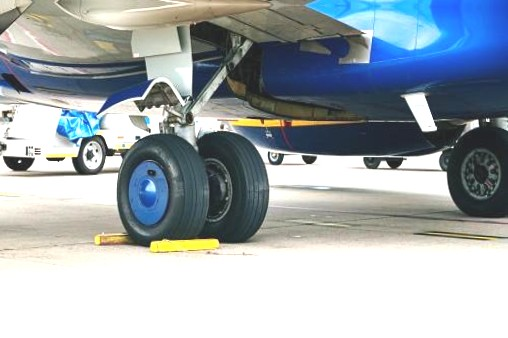chock: (149, 237, 223, 254), (92, 230, 158, 246)
wheel: (114, 131, 209, 245), (190, 131, 270, 241), (445, 127, 508, 216), (71, 136, 106, 175), (2, 155, 34, 170), (438, 149, 452, 171), (70, 156, 86, 172), (267, 151, 283, 164), (363, 157, 381, 168), (386, 157, 403, 167), (301, 154, 317, 163), (45, 155, 64, 161), (105, 147, 116, 155)
